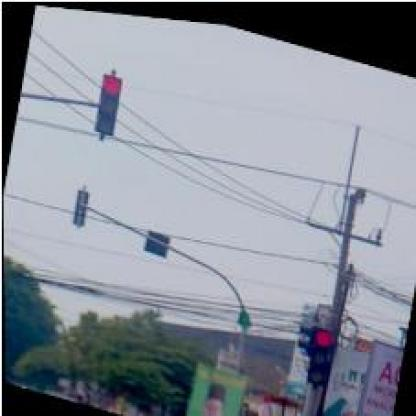red: (302, 316, 336, 380), (92, 68, 124, 134)
